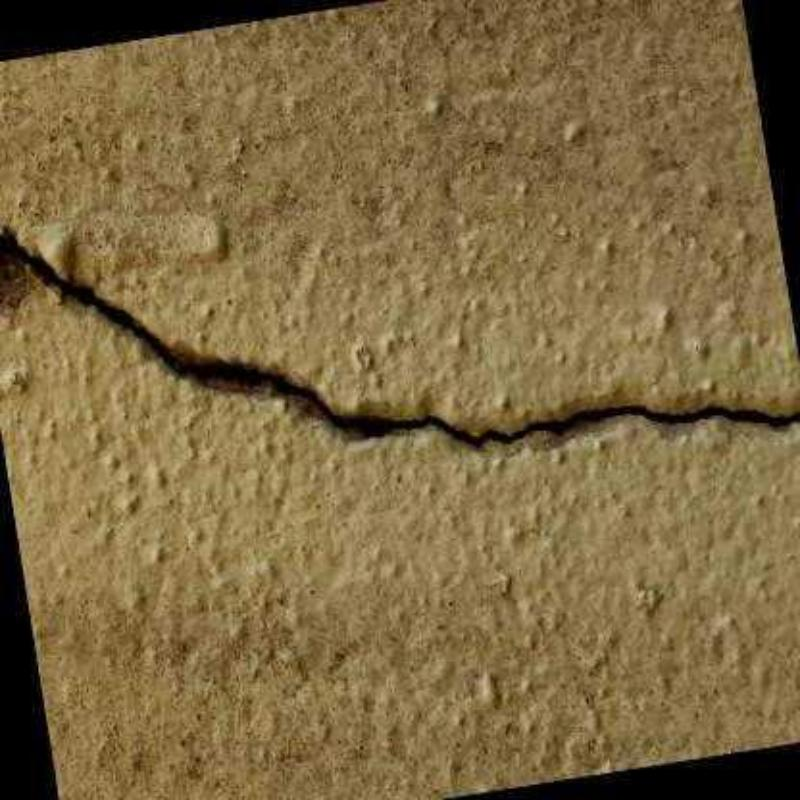pothole: (1, 237, 799, 447)
